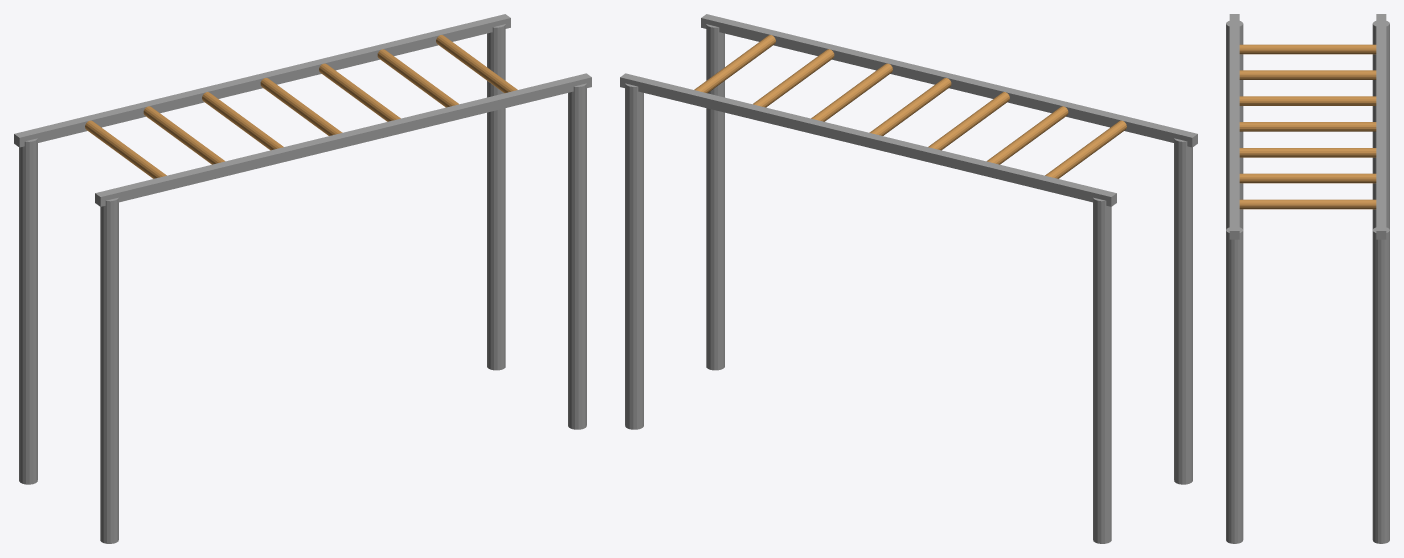
File: MonkeyBars.glb
The picture shows the model from 3 angles, left to right: view 1: azimuth 30°, elevation 25°; view 2: azimuth 150°, elevation 25°; view 3: azimuth 270°, elevation 25°; orthographic projection. The views are drawn at different scales.
Parts seen in each view (by area): view 1: world; view 2: world; view 3: world.
Part boxes in pixels (box(x1,y1,x2,y2)): world: box(14, 14, 591, 543); world: box(620, 14, 1197, 543); world: box(1226, 14, 1389, 543).
Bounding box in the file's own units: 4.2 × 2.84 × 1.34.
